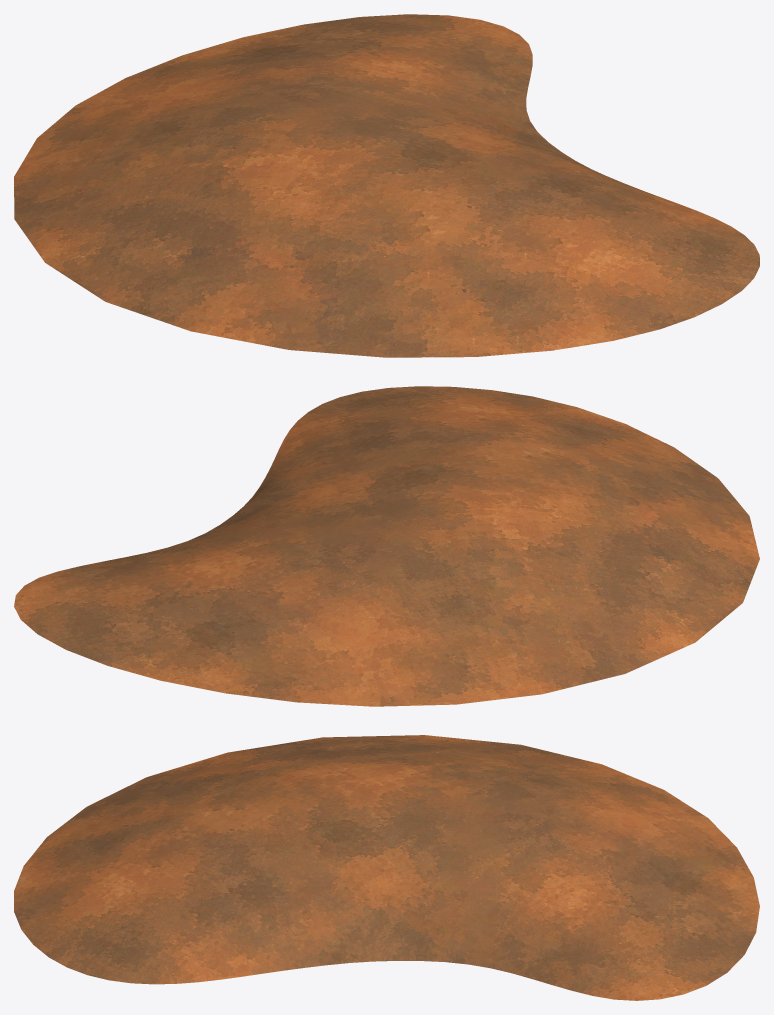
The model's file is Exotic_Ground_03.fbx.
3 renders of one model, top to bottom at view 1: azimuth 30°, elevation 25°; view 2: azimuth 150°, elevation 25°; view 3: azimuth 270°, elevation 25°, orthographic. The views are drawn at different scales.
Visible parts, largest first — view 1: Exotic_Ground_03; view 2: Exotic_Ground_03; view 3: Exotic_Ground_03.
Boxes of the visible parts, x1=… form: Exotic_Ground_03: x1=14, y1=14, x2=759, y2=357; Exotic_Ground_03: x1=14, y1=386, x2=759, y2=706; Exotic_Ground_03: x1=14, y1=735, x2=759, y2=1000.
Size of the model in its own units: 1397 by 1656 by 147.
